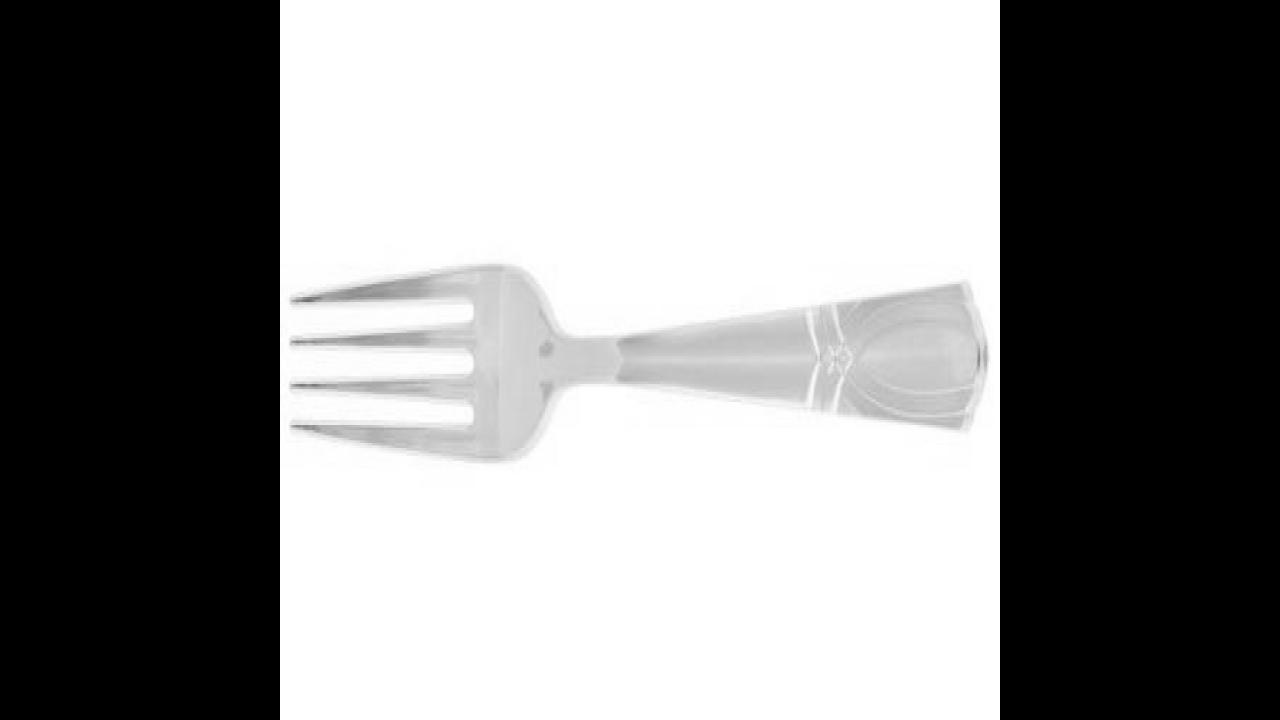fork: (287, 263, 987, 465)
